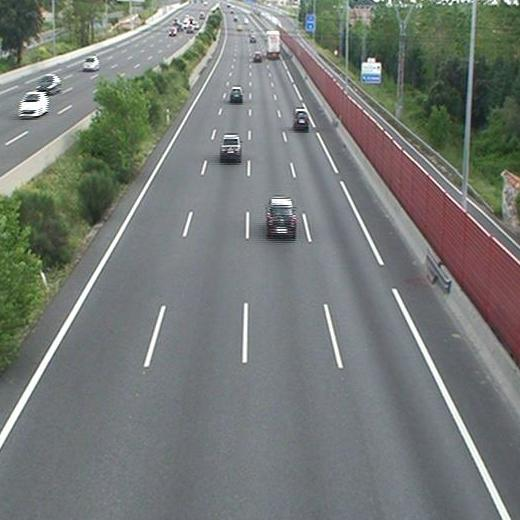car: (267, 198, 296, 235), (221, 135, 242, 158), (293, 109, 310, 127), (230, 87, 242, 100), (253, 52, 261, 61)
truck: (267, 31, 281, 59)
